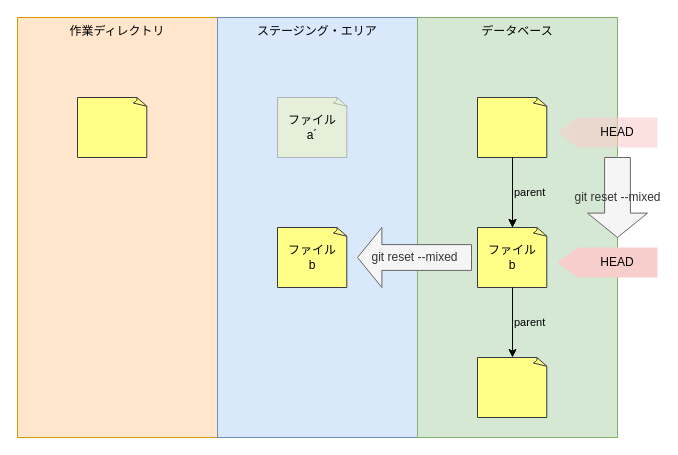
Some shapes in this 678 by 455 pixel diagram are drawn without their labels. Here are the shapes that lost their labels. From the top down, the centre of each, then its label:
At (x=112, y=127): "ファイル a´´".
At (x=512, y=127): "ファイル a".
At (x=512, y=387): "ファイル c".
